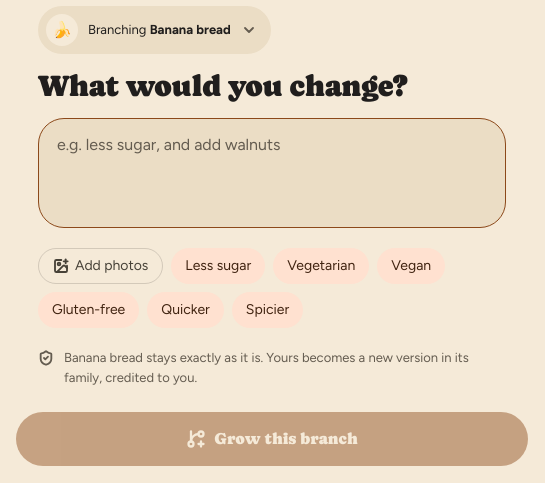
Test case: BranchComposer › chips append the lower-case label, joined with a comma
The width and height of the screenshot is (545, 483).
Click the button "Less sugar": (218,266) x1=171 y1=244 x2=265 y2=288
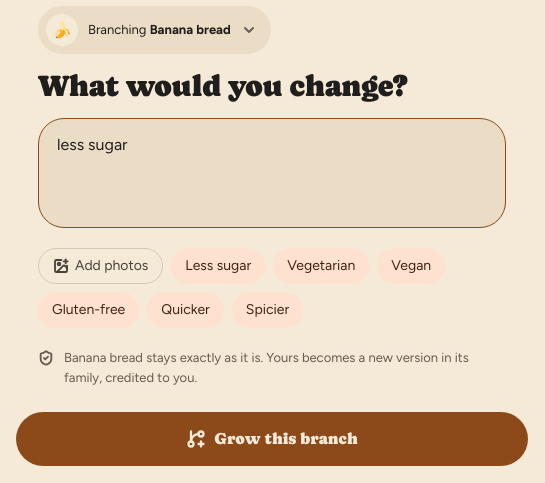
Expected: the text box labelled "What would you change?" holds "less sugar", x1=38 y1=118 x2=506 y2=228
Click the button "Gluten-free": (89,310) x1=38 y1=288 x2=139 y2=332
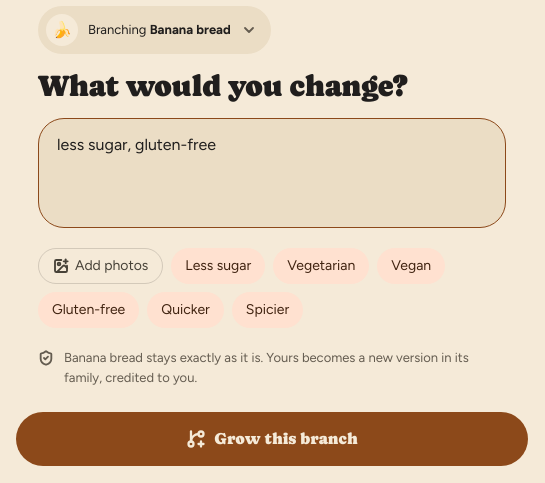
Expected: the button "Vegetarian" is shown, x1=273 y1=244 x2=369 y2=288
Expected: the text box labelled "What would you change?" holds "less sugar, gluten-free", x1=38 y1=118 x2=506 y2=228
